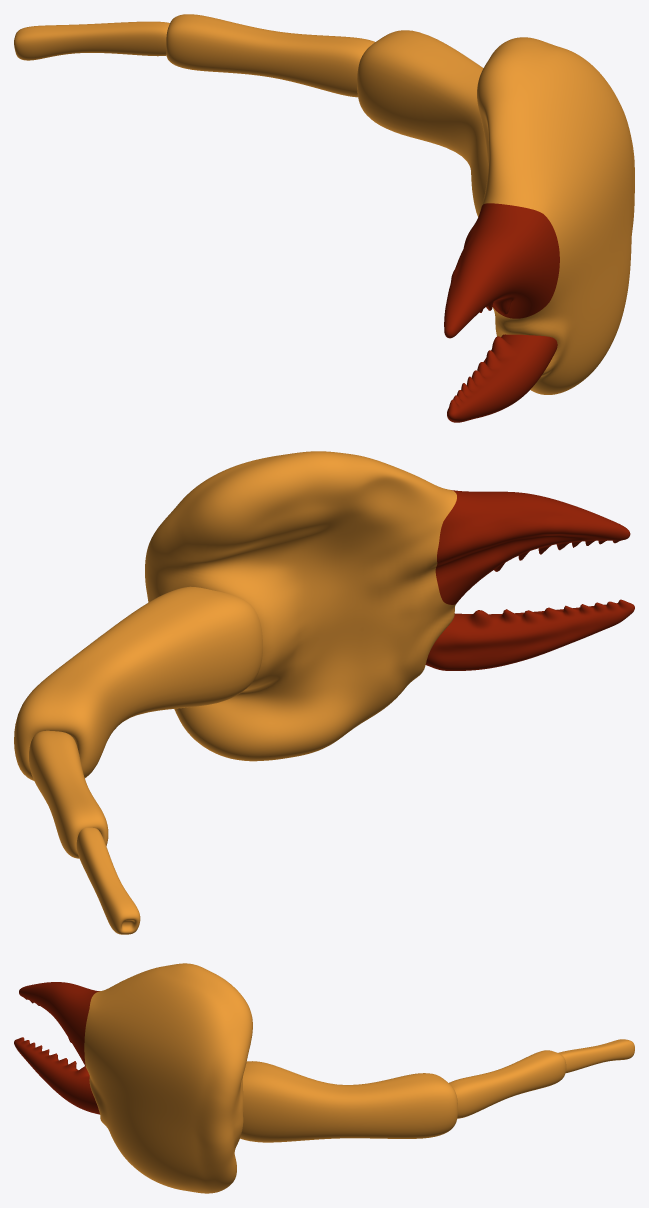
File: Left Claw Scorpion.fbx
3 renders of one model, top to bottom at view 1: azimuth 30°, elevation 25°; view 2: azimuth 150°, elevation 25°; view 3: azimuth 270°, elevation 25°, orthographic. The views are drawn at different scales.
Parts seen in each view (by area): view 1: Claw.002, Arm.006, Arm.008, Pincer.002, Arm.007; view 2: Claw.002, Arm.006, Pincer.002, Arm.008, Arm.007; view 3: Claw.002, Arm.006, Arm.008, Pincer.002, Arm.007.
Boxes of the visible parts, bbox=[...] form: Claw.002: bbox=[444, 37, 634, 394]; Arm.006: bbox=[357, 30, 488, 216]; Arm.008: bbox=[166, 14, 374, 97]; Pincer.002: bbox=[447, 334, 557, 422]; Arm.007: bbox=[14, 21, 169, 60]; Claw.002: bbox=[145, 451, 630, 761]; Arm.006: bbox=[14, 586, 262, 780]; Pincer.002: bbox=[425, 599, 634, 670]; Arm.008: bbox=[29, 730, 108, 858]; Arm.007: bbox=[76, 827, 140, 934]; Claw.002: bbox=[19, 963, 252, 1193]; Arm.006: bbox=[240, 1061, 457, 1142]; Arm.008: bbox=[449, 1050, 566, 1118]; Pincer.002: bbox=[14, 1037, 99, 1114]; Arm.007: bbox=[558, 1039, 634, 1072].
Bounding box in the file's own units: 239 × 216 × 585.
